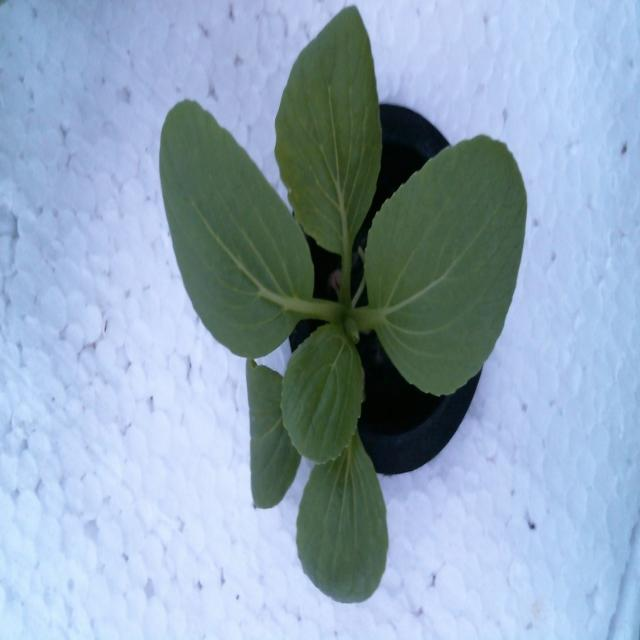pakcoy_sehat: (161, 16, 536, 608)
